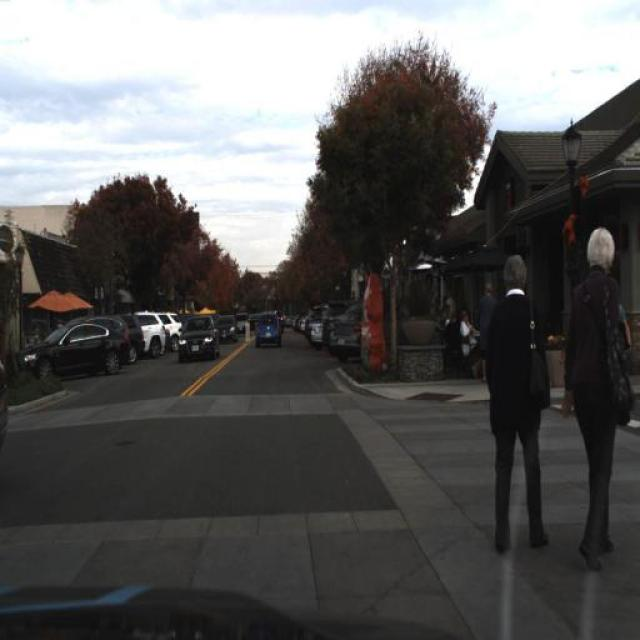car: (16, 316, 130, 383), (326, 301, 366, 364), (130, 308, 171, 366), (176, 313, 220, 361), (253, 308, 285, 351), (212, 314, 240, 348)
trafficLight: (561, 224, 634, 575), (482, 252, 550, 556), (476, 279, 506, 382), (453, 307, 482, 371)
